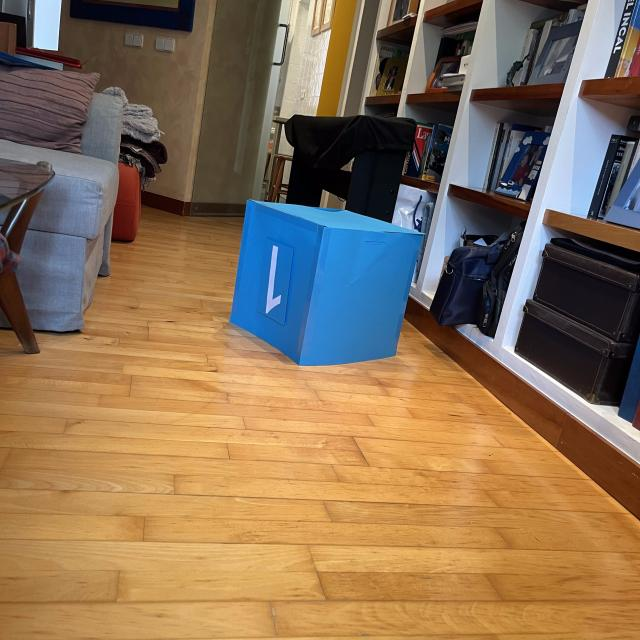box: (226, 194, 426, 369)
